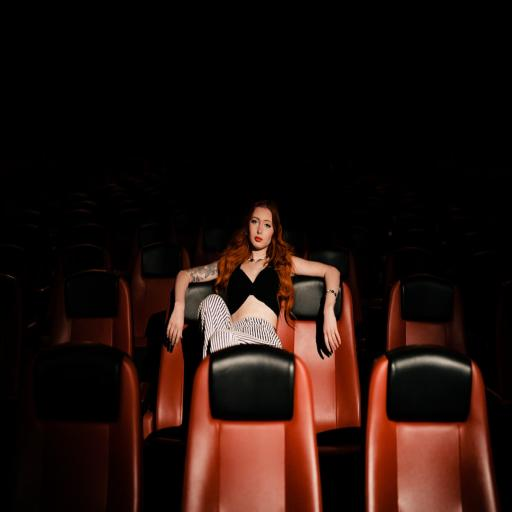face: (251, 211, 273, 245)
